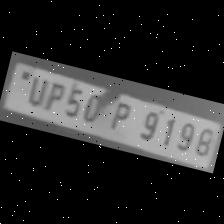0: (78, 86, 110, 127)
1: (154, 112, 180, 148)
5: (59, 80, 86, 120)
8: (190, 121, 218, 159)
9: (131, 103, 164, 143), (170, 117, 196, 153)
P: (103, 94, 135, 133), (40, 76, 68, 114)
U: (21, 72, 49, 108)
